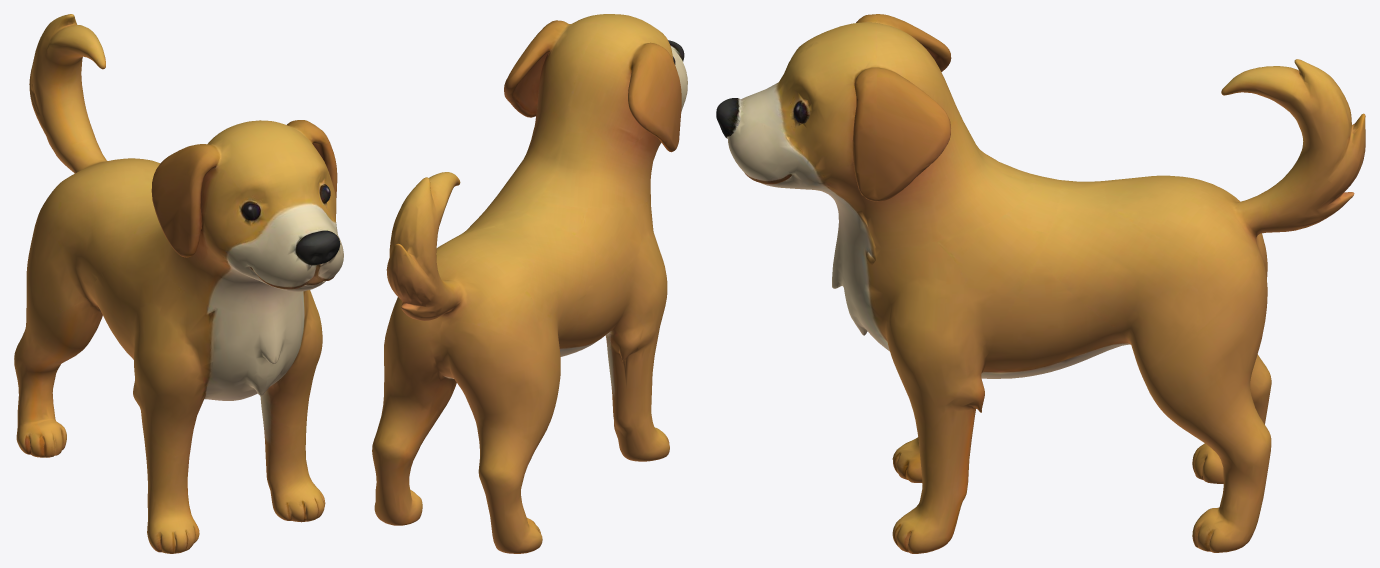
File: perro.glb
The picture shows the model from 3 angles, left to right: view 1: azimuth 30°, elevation 25°; view 2: azimuth 150°, elevation 25°; view 3: azimuth 270°, elevation 25°; orthographic projection. The views are drawn at different scales.
Parts seen in each view (by area): view 1: tripo_node_8eeb2be5-06c3-4df2-aa6a-8a5c19d591d1; view 2: tripo_node_8eeb2be5-06c3-4df2-aa6a-8a5c19d591d1; view 3: tripo_node_8eeb2be5-06c3-4df2-aa6a-8a5c19d591d1.
Boxes of the visible parts, box(x1,y1,x2,y2) form: tripo_node_8eeb2be5-06c3-4df2-aa6a-8a5c19d591d1: box(14, 14, 343, 553); tripo_node_8eeb2be5-06c3-4df2-aa6a-8a5c19d591d1: box(372, 14, 687, 553); tripo_node_8eeb2be5-06c3-4df2-aa6a-8a5c19d591d1: box(716, 14, 1365, 553).
Size of the model in its own units: 0.3545 by 0.8118 by 0.9999.
1 material, 1 textured.
